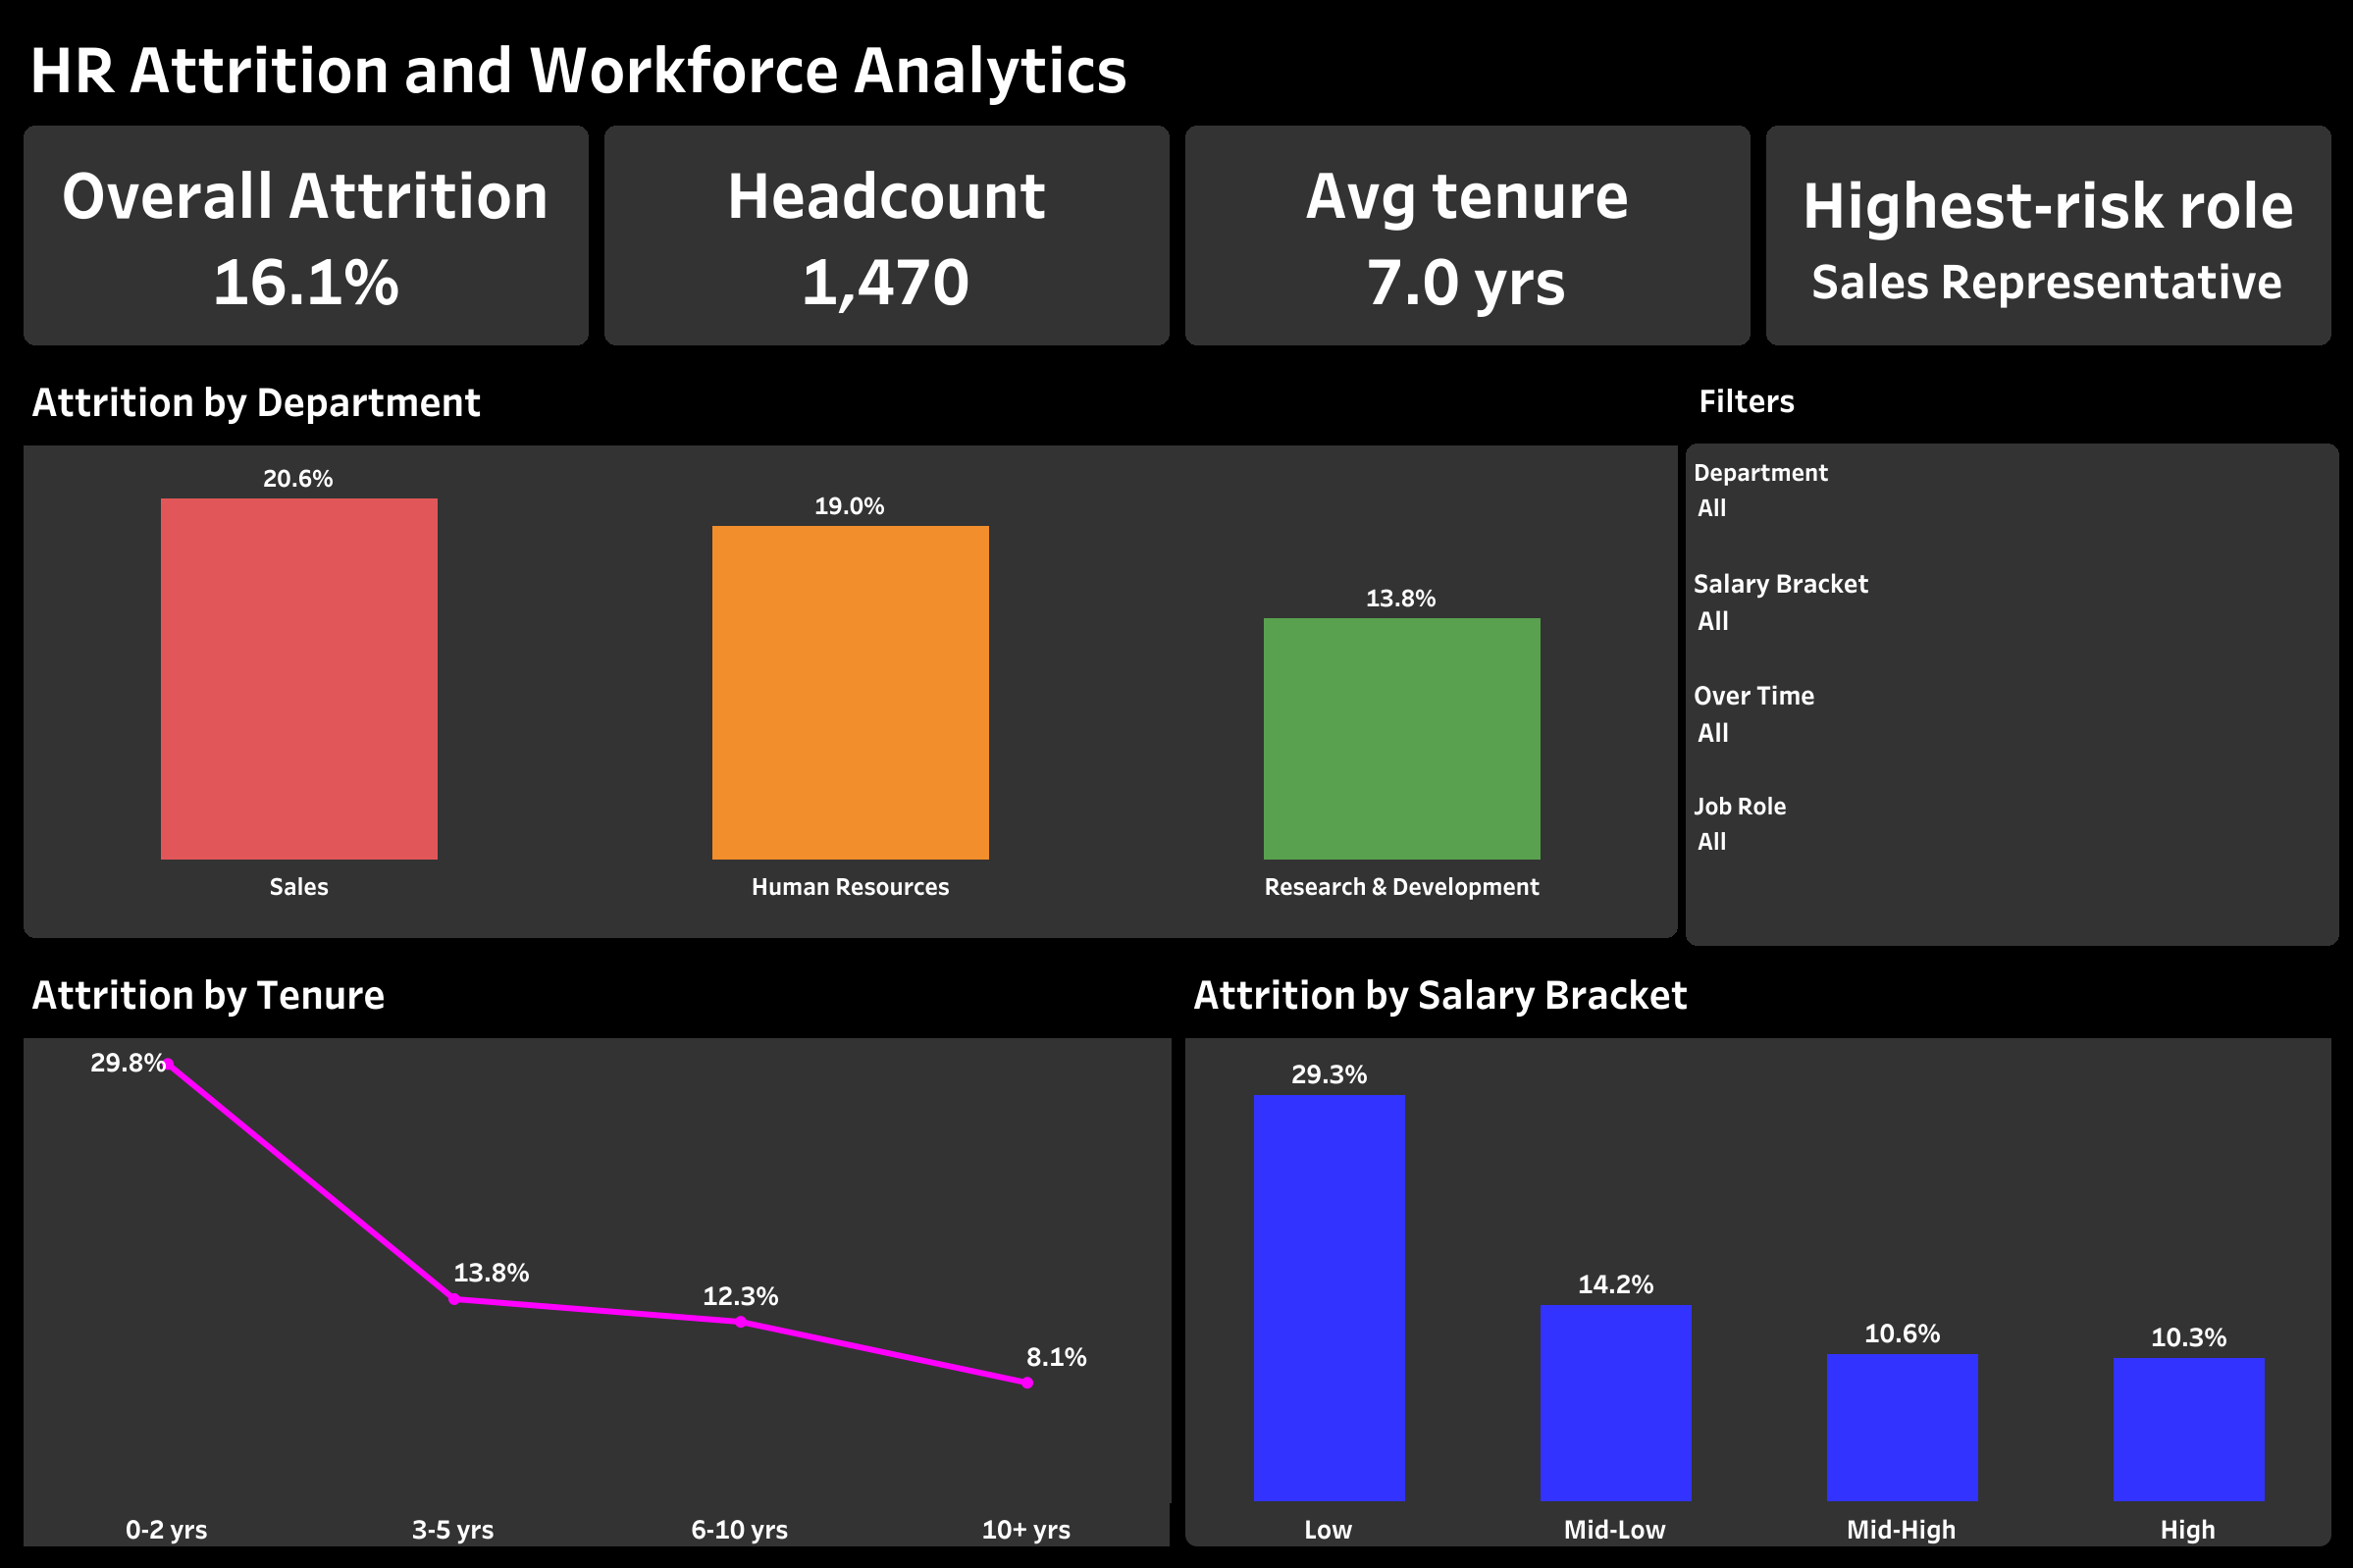

What the dashboard file says about the page in this screenshot:
{"tool":"tableau","page":{"name":"HR Attrition Overview ","canvas":[1200,800],"ordinal":0},"visuals":[{"type":"title","box":[8,8,1184,52]},{"type":"worksheet","title":"KPI - Attrition Rate","mark":"Automatic","box":[8,60,296,120]},{"type":"worksheet","title":"KPI - Headcount","mark":"Automatic","box":[304,60,296,120]},{"type":"worksheet","title":"KPI - Avg Tenure","mark":"Automatic","box":[600,60,296,120]},{"type":"worksheet","title":"KPI-Highest Risk Role","mark":"Automatic","box":[896,60,296,120]},{"type":"worksheet","title":"Attrition by Department","mark":"Bar","rows":["Calculation_0104088860053504"],"cols":["Department"],"box":[8,180.4,851,301.6]},{"type":"text","box":[859,180.4,333,45.6]},{"type":"filter","title":"Attrition by Department","param":"[federated.1qxuoak0dd5a3t178sife0shhe4o].[none:Department:nk]","box":[859,226,333,52]},{"type":"filter","title":"Attrition by Tenure","param":"[federated.1qxuoak0dd5a3t178sife0shhe4o].[none:SalaryBracket:nk]","box":[859,278,333,53]},{"type":"filter","title":"Attrition by Tenure","param":"[federated.1qxuoak0dd5a3t178sife0shhe4o].[none:OverTime:nk]","box":[859,331,333,53]},{"type":"filter","title":"Attrition by Department","param":"[federated.1qxuoak0dd5a3t178sife0shhe4o].[none:JobRole:nk]","box":[859,384,333,52]},{"type":"worksheet","title":"Attrition by Tenure","mark":"Line","rows":["Calculation_0104088860053504"],"cols":["Calculation_0104088931704833"],"box":[8,482,592,310]},{"type":"worksheet","title":"Attrition by Salary Bracket","mark":"Automatic","rows":["Calculation_0104088860053504"],"cols":["SalaryBracket"],"box":[600,482,592,310]}]}

Visuals, with their boxes in screenshot pixels (x1, y1, x2, y2), scaled from the page's 1200x800 canvas onto the 2353x1568 screenshot:
title: 16 16 2337 118
"KPI - Attrition Rate" worksheet: 16 118 596 353
"KPI - Headcount" worksheet: 596 118 1176 353
"KPI - Avg Tenure" worksheet: 1176 118 1757 353
"KPI-Highest Risk Role" worksheet: 1757 118 2337 353
"Attrition by Department" worksheet (Bar marks): 16 353 1685 945
text: 1685 353 2337 443
"Attrition by Department" filter: 1685 443 2337 545
"Attrition by Tenure" filter: 1685 545 2337 649
"Attrition by Tenure" filter: 1685 649 2337 753
"Attrition by Department" filter: 1685 753 2337 855
"Attrition by Tenure" worksheet (Line marks): 16 945 1176 1552
"Attrition by Salary Bracket" worksheet: 1176 945 2337 1552
